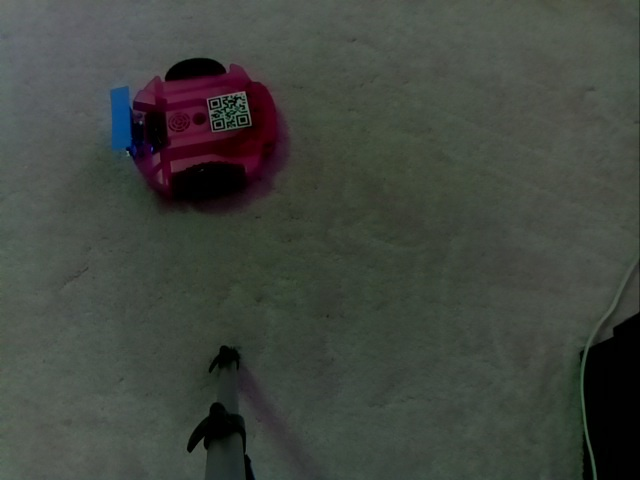chassis: (106, 57, 289, 196)
qr: (206, 92, 253, 133)
